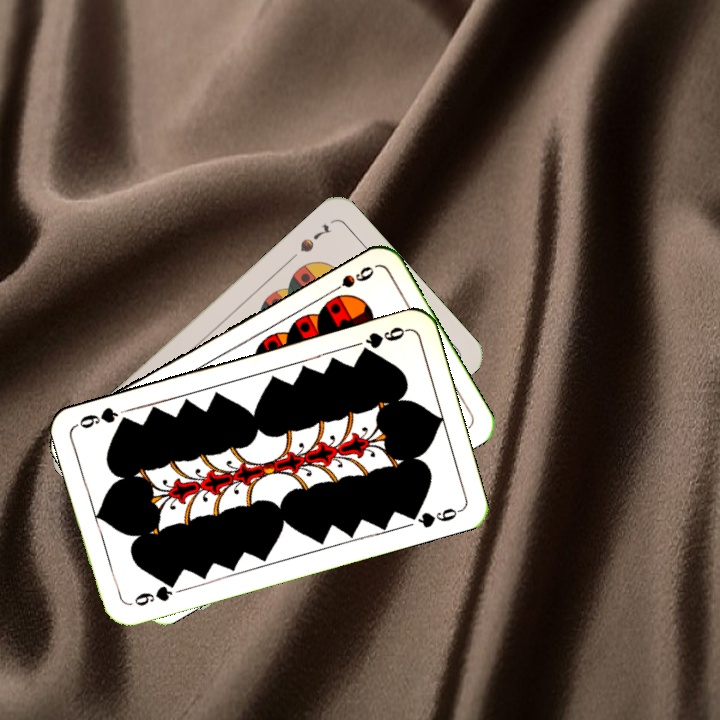G9: (356, 322, 411, 358), (130, 577, 180, 609)
S7: (295, 220, 332, 255)
S9: (323, 262, 377, 298)
